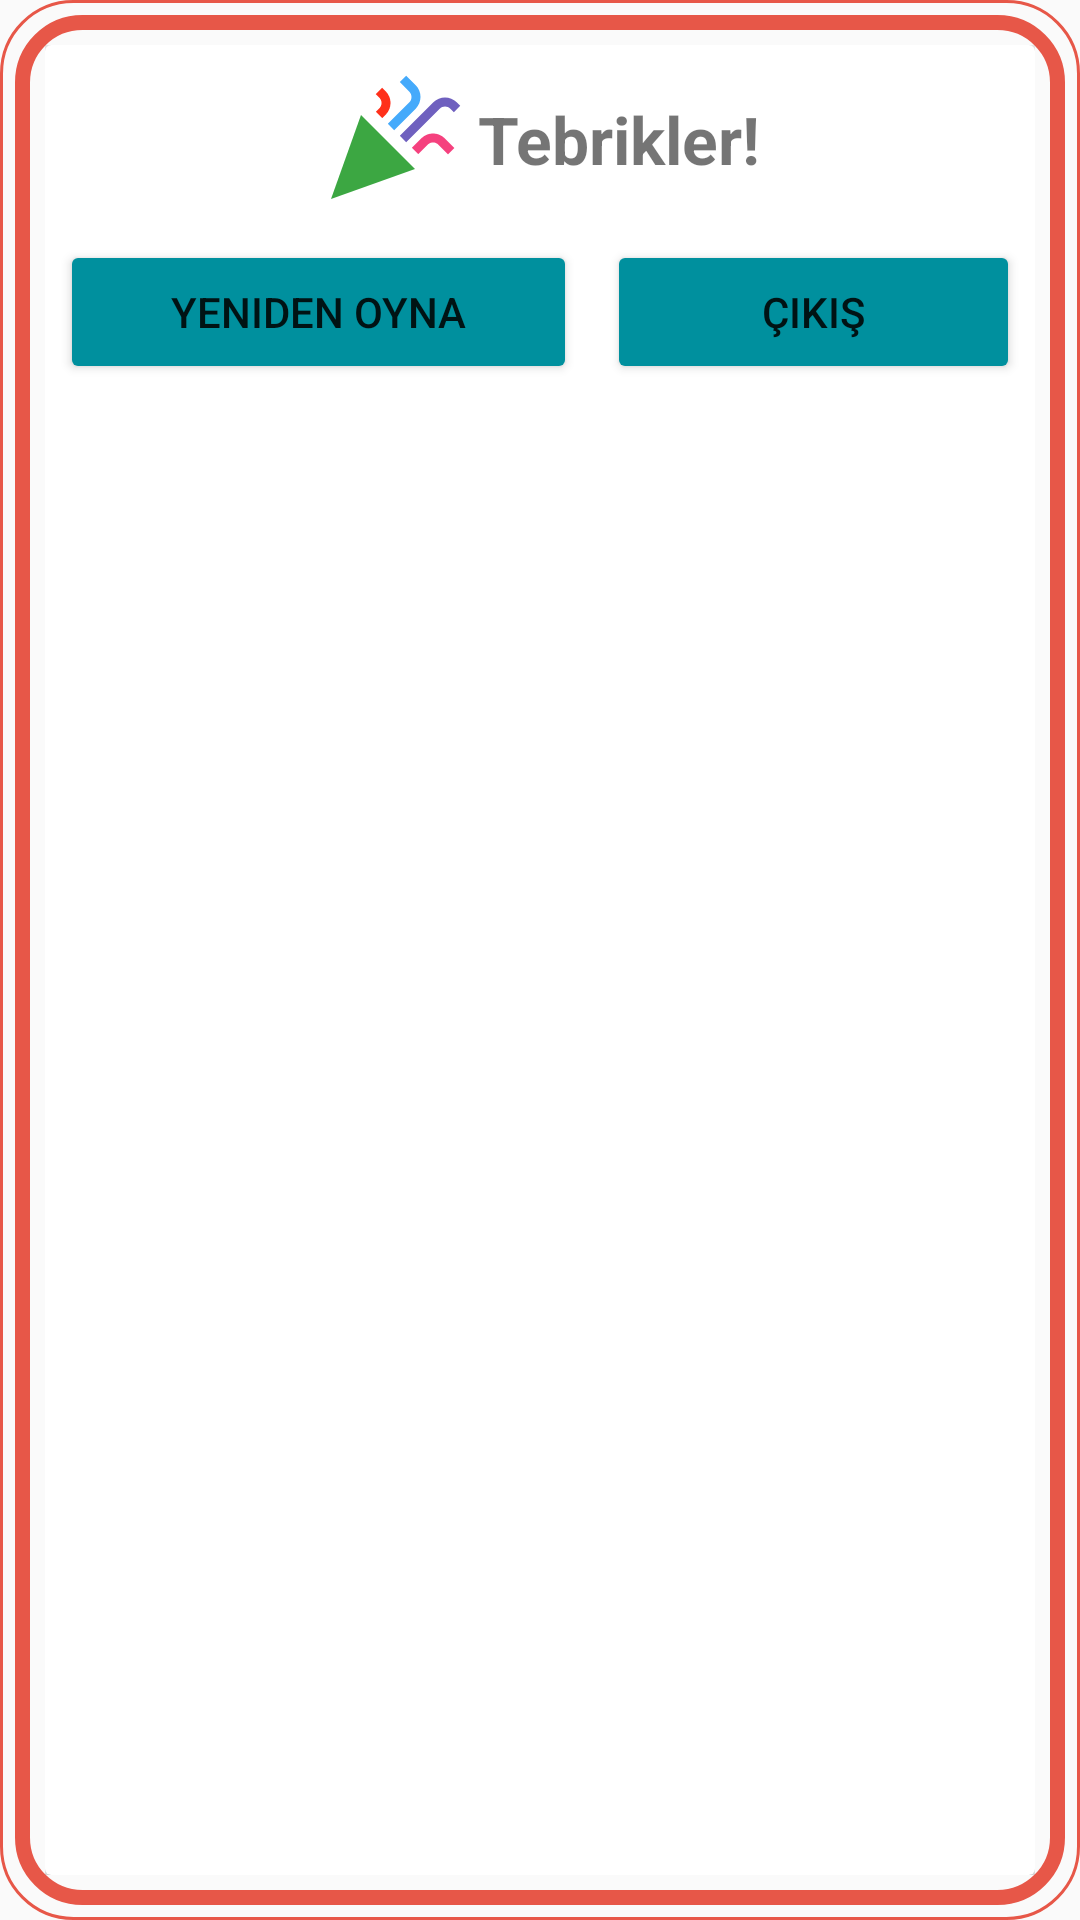

Screen size 1080w x 1920h. Icon name, then its center in pixels as (x=x, y=y):
celebration: (x=395, y=137)
